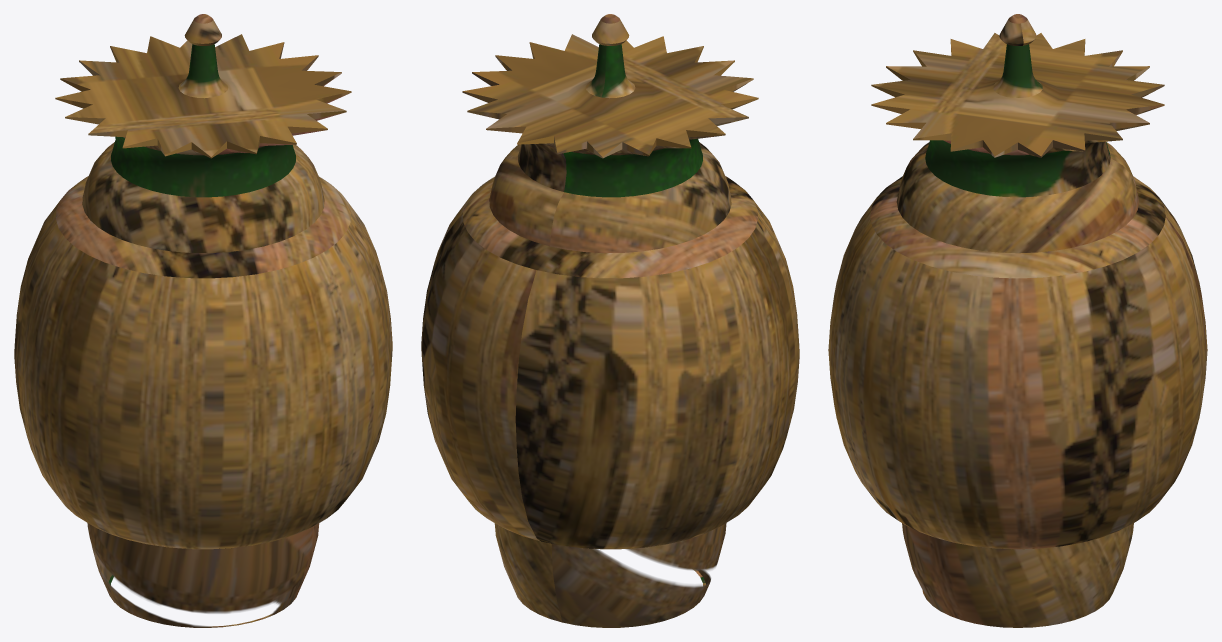
Rendered from xi_oam_hanginglamp_layer.gltf.
3 views of the same model, side by side, from view 1: azimuth 30°, elevation 25°; view 2: azimuth 150°, elevation 25°; view 3: azimuth 270°, elevation 25° (orthographic).
Visible parts, largest first — view 1: xi_oam_hanginglamp_layer; view 2: xi_oam_hanginglamp_layer; view 3: xi_oam_hanginglamp_layer.
Boxes of the visible parts, x1=… form: xi_oam_hanginglamp_layer: x1=14, y1=14, x2=392, y2=627; xi_oam_hanginglamp_layer: x1=421, y1=14, x2=799, y2=627; xi_oam_hanginglamp_layer: x1=828, y1=14, x2=1207, y2=627.
Bounding box in the file's own units: 0.3012 × 0.5007 × 0.3012.
1 material, 1 textured.
